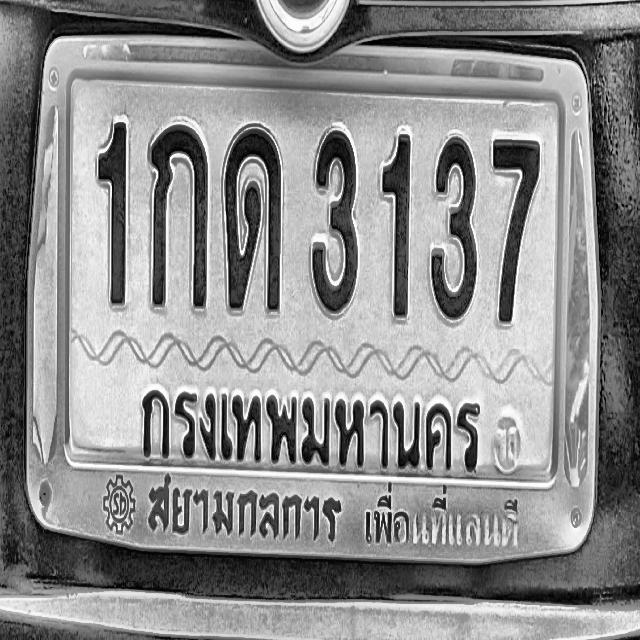license-plate: (14, 12, 613, 599)
